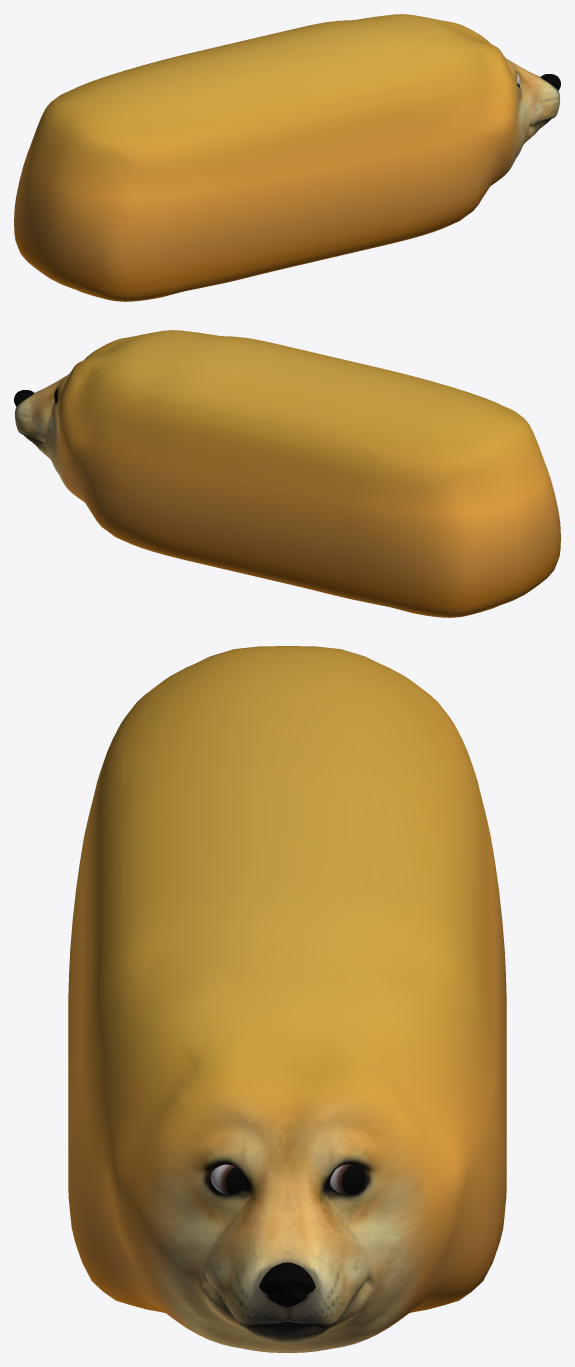
The model's file is furthermore.glb.
3 views of the same model, one above another, from view 1: azimuth 30°, elevation 25°; view 2: azimuth 150°, elevation 25°; view 3: azimuth 270°, elevation 25° (orthographic). The views are drawn at different scales.
Visible parts, largest first — view 1: Plane.007_3; view 2: Plane.007_3; view 3: Plane.007_3, nose.003_0, Sphere.009_1.
Part boxes in pixels (box(x1,y1,x2,y2)): Plane.007_3: box(14, 14, 560, 301); Plane.007_3: box(14, 330, 560, 617); Plane.007_3: box(68, 646, 506, 1352); nose.003_0: box(259, 1262, 315, 1306); Sphere.009_1: box(330, 1164, 365, 1194).
Bounding box in the file's own units: 10.96 × 3.51 × 3.97.
3 materials, 2 textured.
